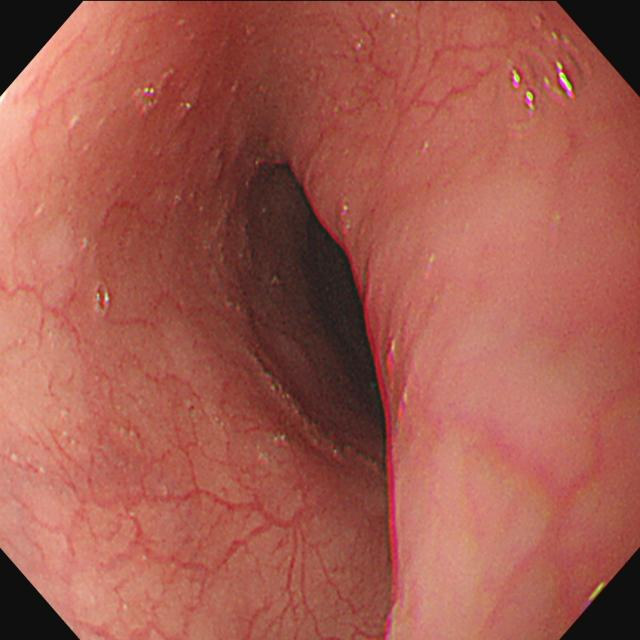E: (232, 159, 384, 453)
T: (510, 18, 588, 117)
